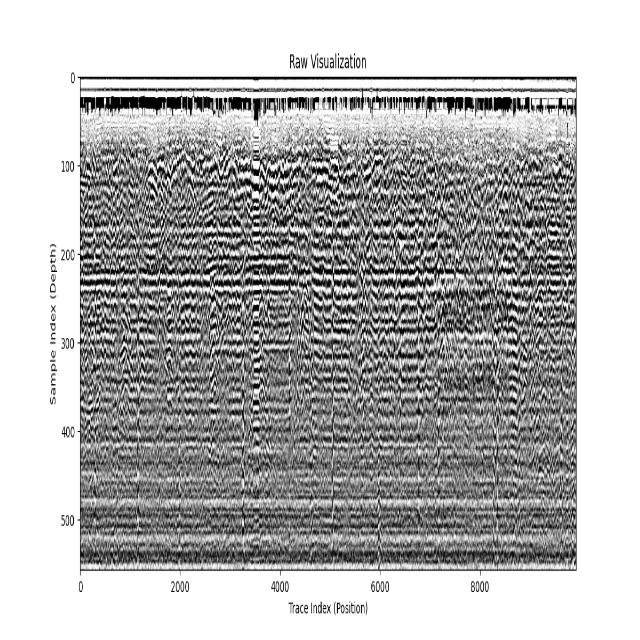anomaly: (508, 172, 519, 490), (251, 154, 259, 511)
